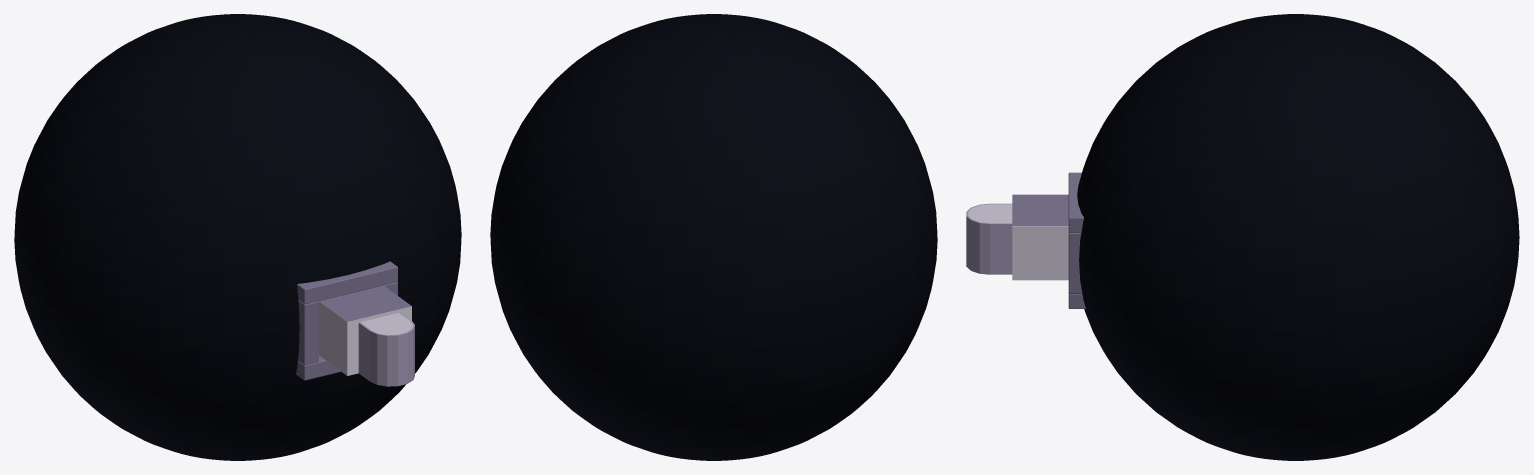
Rendered from cartography-deck.glb.
3 views of the same model, side by side, from view 1: azimuth 30°, elevation 25°; view 2: azimuth 150°, elevation 25°; view 3: azimuth 270°, elevation 25° (orthographic).
Parts seen in each view (by area): view 1: sphere, turbolift wall, vestibule wall 1, collar top, vestibule roof, collar port, turbolift ceiling, collar bottom; view 2: sphere; view 3: sphere, vestibule wall 0, turbolift wall, vestibule roof, turbolift ceiling, collar top, collar starboard.
Part boxes in pixels (box(x1,y1,x2,y2)): sphere: box(14, 14, 461, 460); turbolift wall: box(358, 312, 414, 386); vestibule wall 1: box(319, 301, 362, 375); collar top: box(297, 261, 397, 304); vestibule roof: box(319, 285, 411, 321); collar port: box(298, 300, 318, 365); turbolift ceiling: box(361, 313, 412, 334); collar bottom: box(296, 355, 340, 380); sphere: box(490, 14, 937, 460); sphere: box(1077, 14, 1519, 460); vestibule wall 0: box(1012, 226, 1068, 280); turbolift wall: box(966, 203, 1012, 274); vestibule roof: box(1012, 194, 1068, 225); turbolift ceiling: box(968, 204, 1012, 223); collar top: box(1068, 172, 1083, 232); collar starboard: box(1068, 232, 1082, 293).
Bounding box in the file's own units: 24 × 24 × 29.67.
